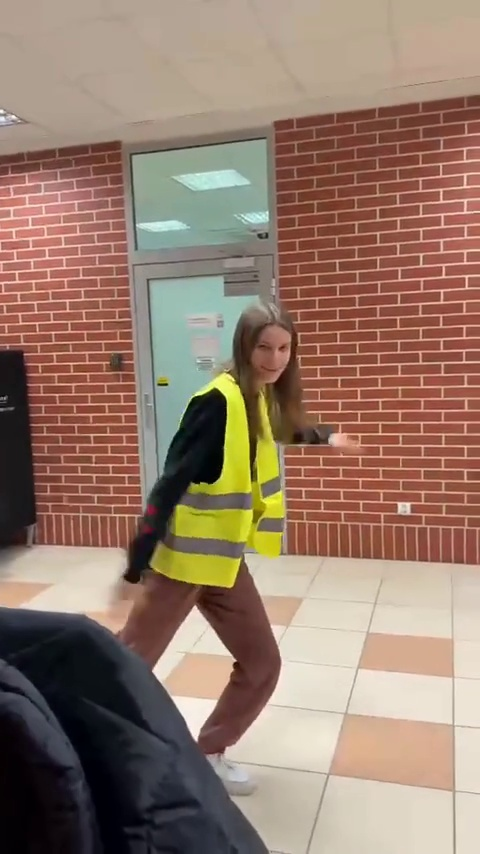vest: (165, 301, 350, 794)
